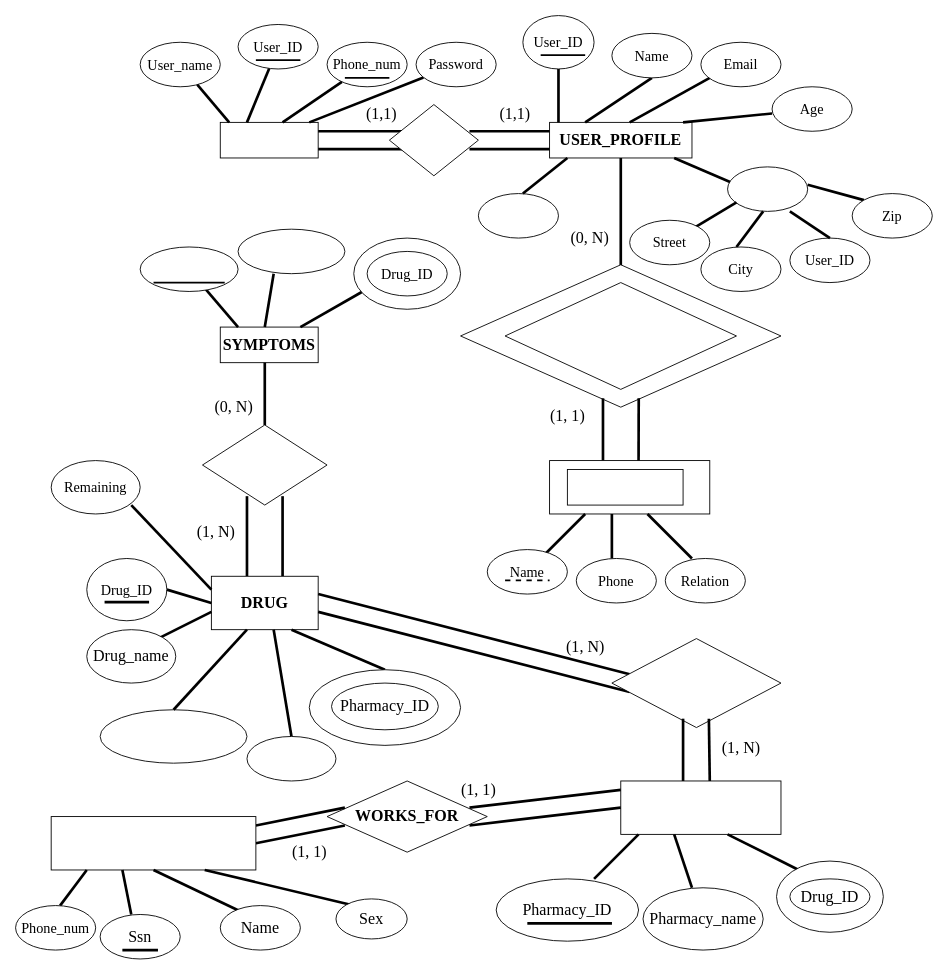
Some shapes in this 948 by 975 pixel diagram are drawn without their labels. The centre of each missing label's shape, as x and y in pixels:
Address: point 767,188
DEPENDENTS: point 624,487
DEPENDENTS_OF: point 620,335
Drug_description: point 173,736
History: point 517,215
OF_DRUG: point 264,464
OF_PHARMACY: point 696,683
PHAMACY_TECHNICIAN: point 153,843
PHARMACY_INFO: point 700,807
Price: point 291,758
PROFILE: point 433,140
Symptom_ID: point 188,268
Symptom_Name: point 291,251
USERS: point 268,139
